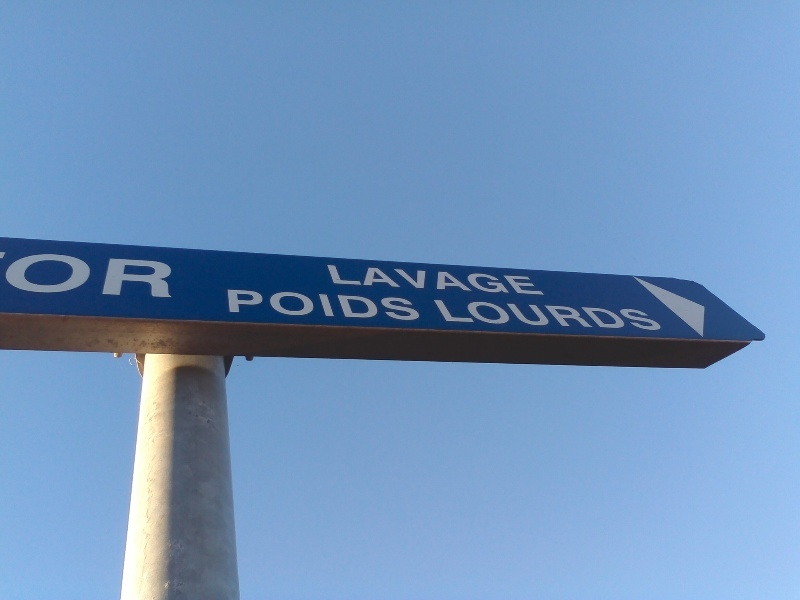text: (17, 249, 32, 300), (33, 249, 48, 300), (49, 249, 64, 300), (65, 249, 80, 300), (81, 249, 96, 300), (97, 249, 112, 300), (113, 249, 128, 300), (129, 249, 144, 300), (145, 249, 160, 300), (161, 249, 173, 300), (241, 289, 256, 322), (257, 289, 272, 322), (273, 289, 288, 322), (289, 289, 304, 322), (305, 289, 320, 322), (321, 289, 336, 322), (337, 289, 352, 322), (353, 289, 368, 322), (369, 289, 384, 322), (385, 289, 400, 322), (401, 289, 416, 322), (433, 299, 448, 331), (449, 299, 464, 331), (465, 299, 480, 331), (481, 299, 496, 331), (497, 299, 512, 331), (513, 299, 528, 331), (529, 299, 544, 331), (545, 299, 560, 331), (561, 299, 576, 331), (577, 299, 592, 331), (593, 299, 608, 331), (609, 299, 624, 331), (625, 299, 640, 331), (641, 299, 656, 331), (337, 265, 352, 296), (353, 265, 368, 296), (369, 265, 384, 296), (385, 265, 400, 296), (401, 265, 416, 296), (417, 265, 432, 296), (433, 265, 448, 296), (449, 265, 464, 296), (465, 265, 480, 296), (481, 265, 496, 296), (497, 265, 512, 296), (513, 265, 528, 296), (529, 265, 544, 296), (227, 289, 240, 322), (657, 299, 667, 331), (327, 265, 336, 296), (11, 249, 16, 300), (417, 289, 423, 322), (545, 265, 547, 296)
